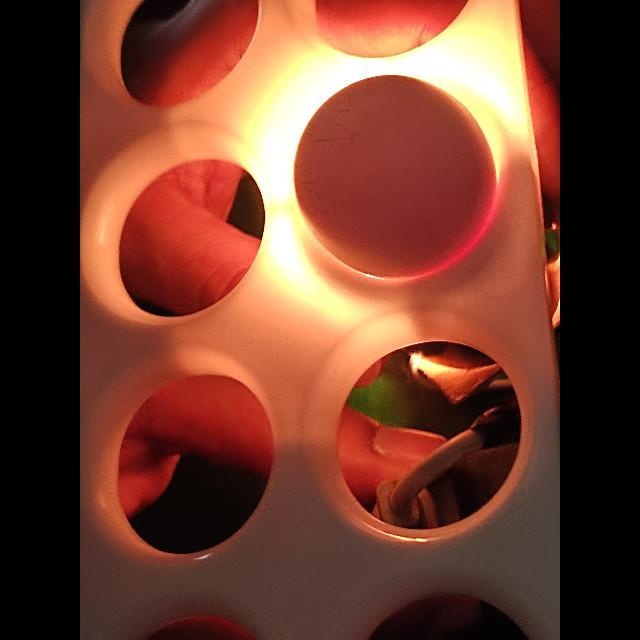Fertile: (302, 72, 498, 264)
